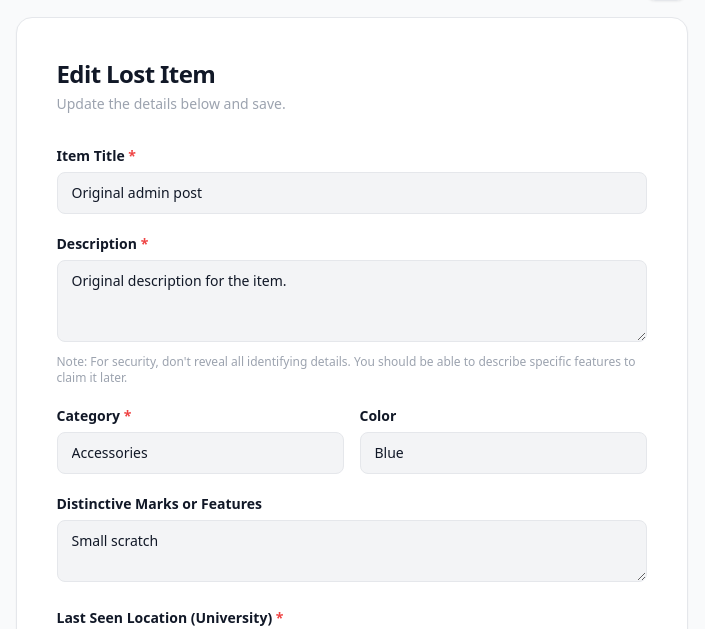
Scenario: ReportLostItemPage - admin edit › does not submit when a required field is empty
Clear the field showing "Original admin post" below "Item Title" at (352, 193), box [56,172,646,214]
(page scrolled)
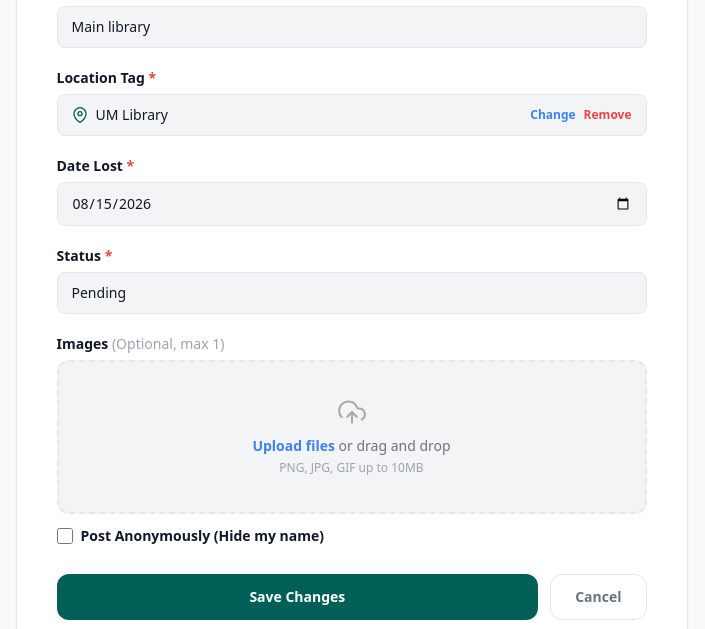
Click the button "Save Changes" at (297, 597), box [56,574,538,620]
(page scrolled)
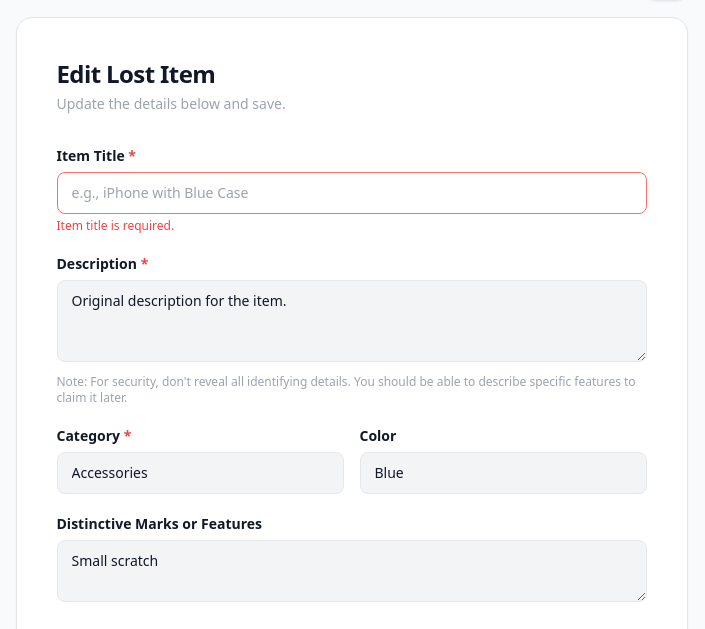
Result: the text "Item title is required." is shown at [56,217,174,234]
